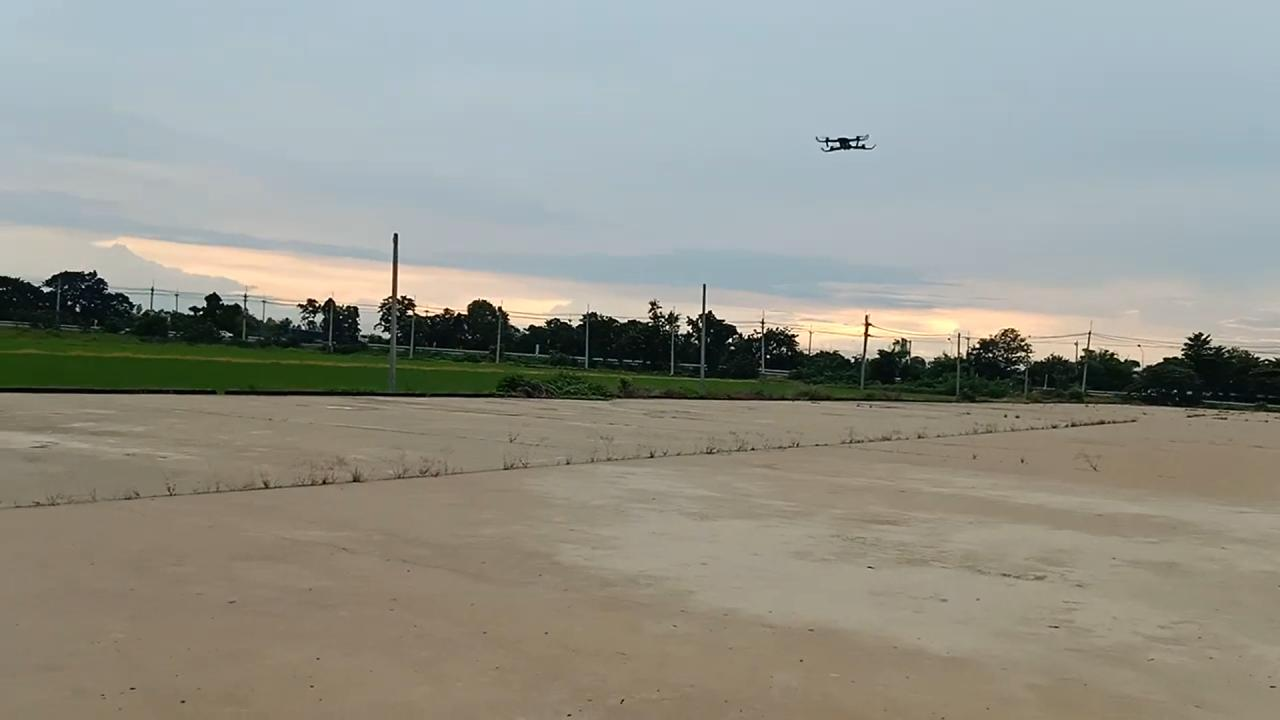Drone: (806, 121, 882, 164)
